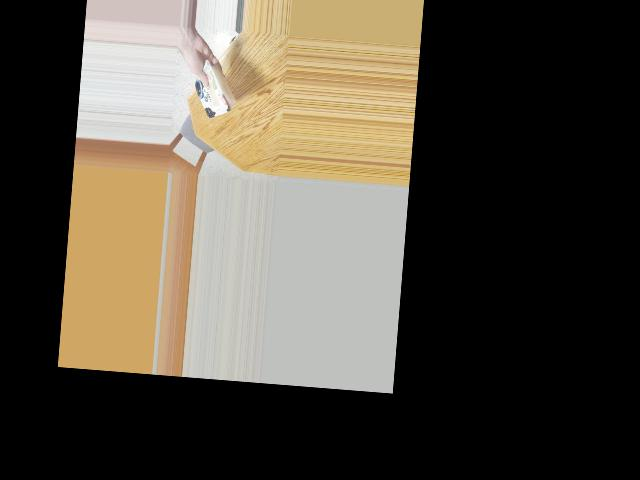cheese: (185, 67, 243, 117)
